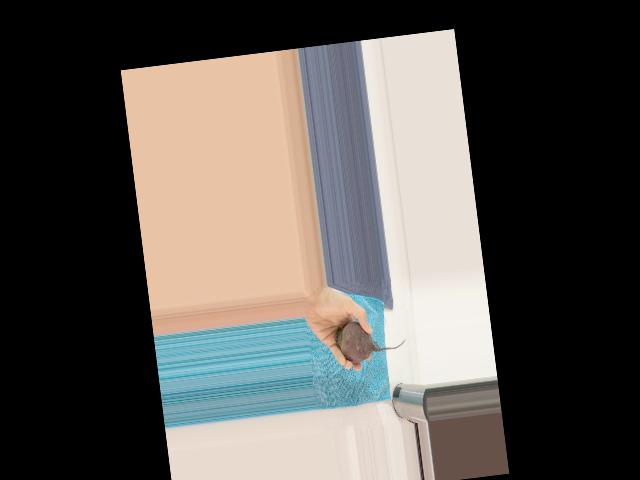beet: (332, 315, 407, 366)
